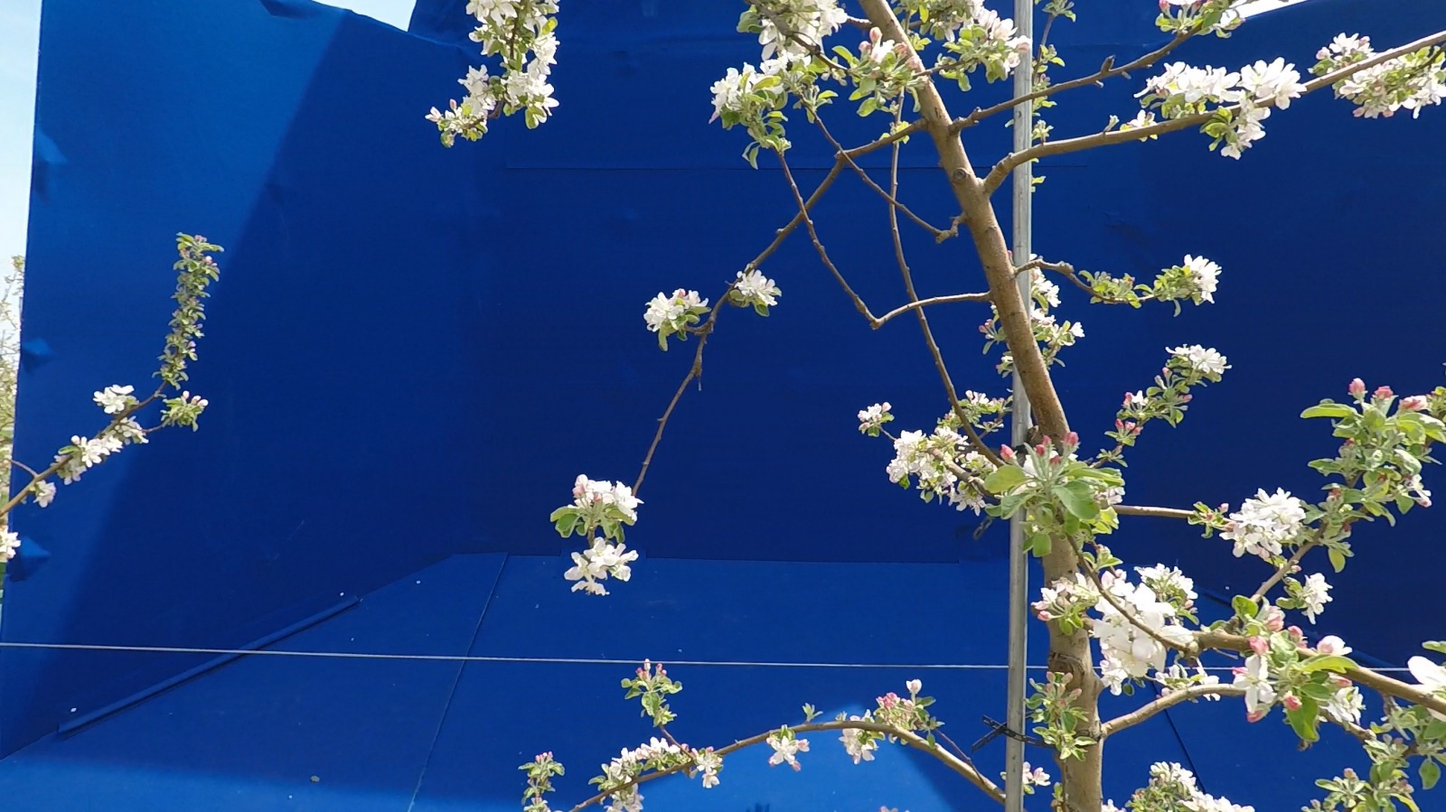flower: (709, 0, 850, 124), (1135, 58, 1316, 152), (885, 431, 996, 523), (1082, 597, 1167, 695), (1102, 569, 1199, 649), (501, 0, 560, 117), (956, 0, 1033, 89), (1218, 488, 1306, 562), (603, 738, 722, 789), (1215, 636, 1279, 714), (1354, 66, 1446, 119), (565, 537, 638, 596), (1171, 763, 1255, 812), (573, 475, 644, 522), (644, 289, 710, 332), (69, 430, 123, 481), (1135, 564, 1197, 608), (459, 65, 498, 134), (1166, 344, 1232, 375), (1320, 687, 1366, 727), (1183, 256, 1222, 303), (1340, 64, 1394, 97), (1297, 574, 1332, 624), (735, 270, 782, 306), (466, 0, 521, 29), (766, 735, 810, 771), (1409, 657, 1446, 694), (839, 729, 878, 764), (94, 386, 139, 414), (1031, 267, 1061, 307), (1330, 33, 1374, 58), (865, 27, 895, 63), (619, 781, 653, 812), (1119, 391, 1149, 420), (0, 526, 21, 563), (935, 424, 970, 446), (116, 416, 144, 443), (1023, 761, 1051, 787), (859, 403, 892, 425), (1318, 636, 1352, 657), (763, 83, 792, 107), (427, 107, 455, 131), (1263, 606, 1285, 636), (1128, 110, 1159, 131), (469, 32, 497, 55), (33, 481, 56, 508), (1399, 396, 1432, 411), (1030, 305, 1056, 324), (1019, 455, 1039, 478), (906, 680, 922, 703), (1349, 379, 1366, 399), (1222, 143, 1241, 160), (1199, 673, 1219, 686), (1001, 446, 1015, 464), (1069, 322, 1084, 338), (1064, 432, 1080, 446), (1375, 387, 1393, 399), (850, 715, 875, 723), (59, 472, 72, 485), (1036, 445, 1046, 457)
